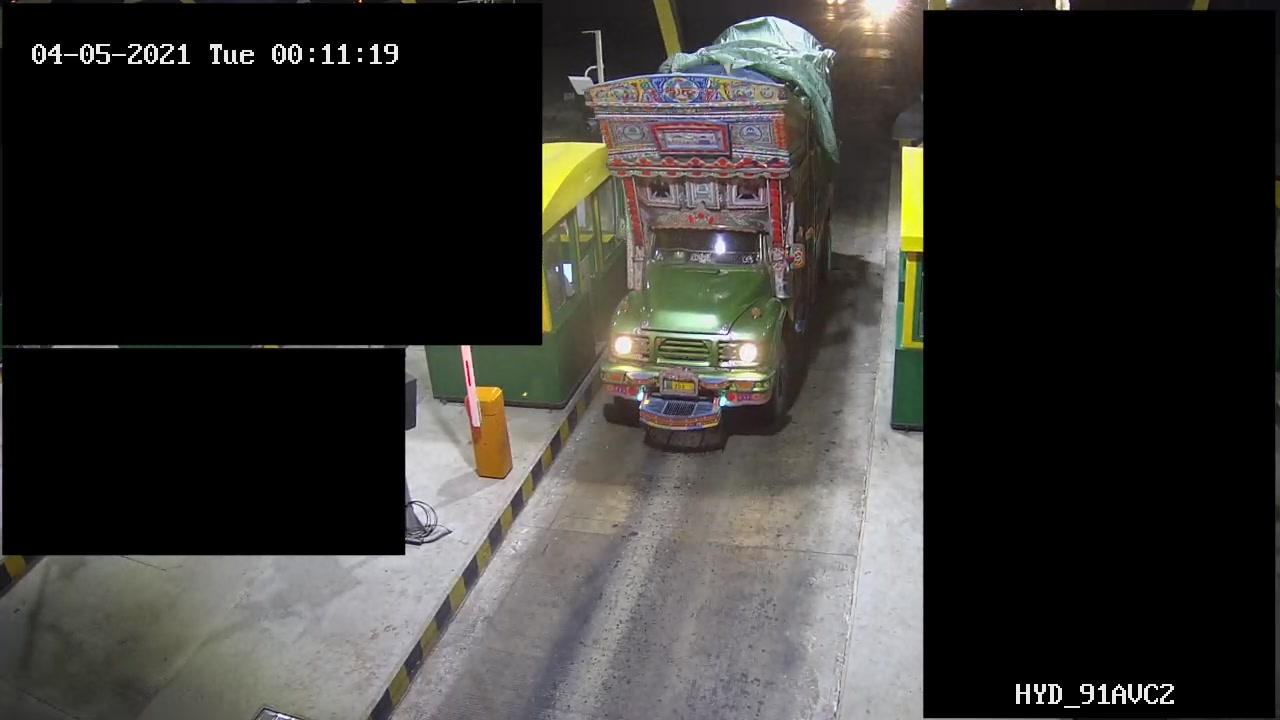F5: (593, 11, 845, 423)
